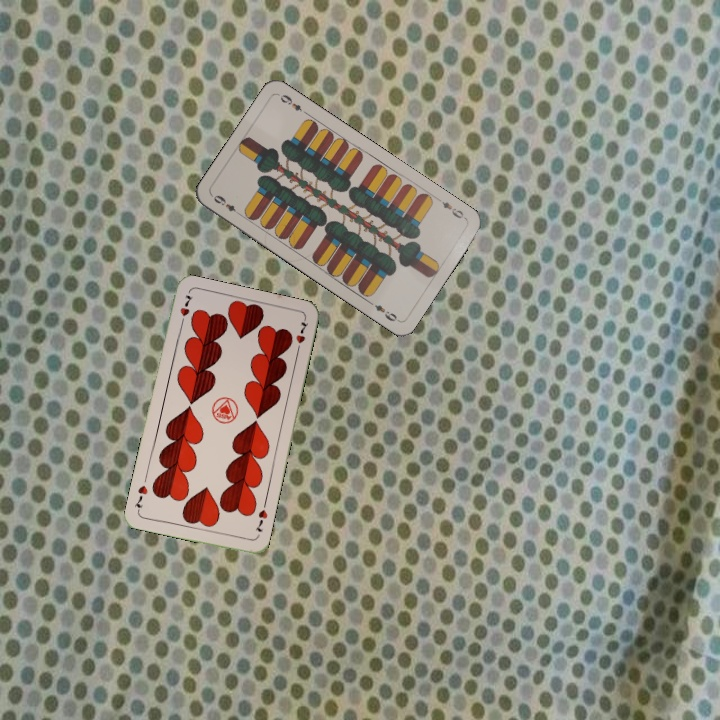E9: (433, 194, 469, 222), (209, 191, 244, 218)
H7: (176, 291, 195, 329), (251, 506, 270, 534)
